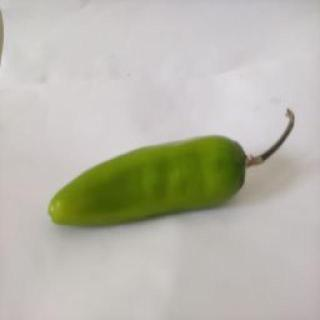Cabai Hijau: (42, 106, 299, 230)
